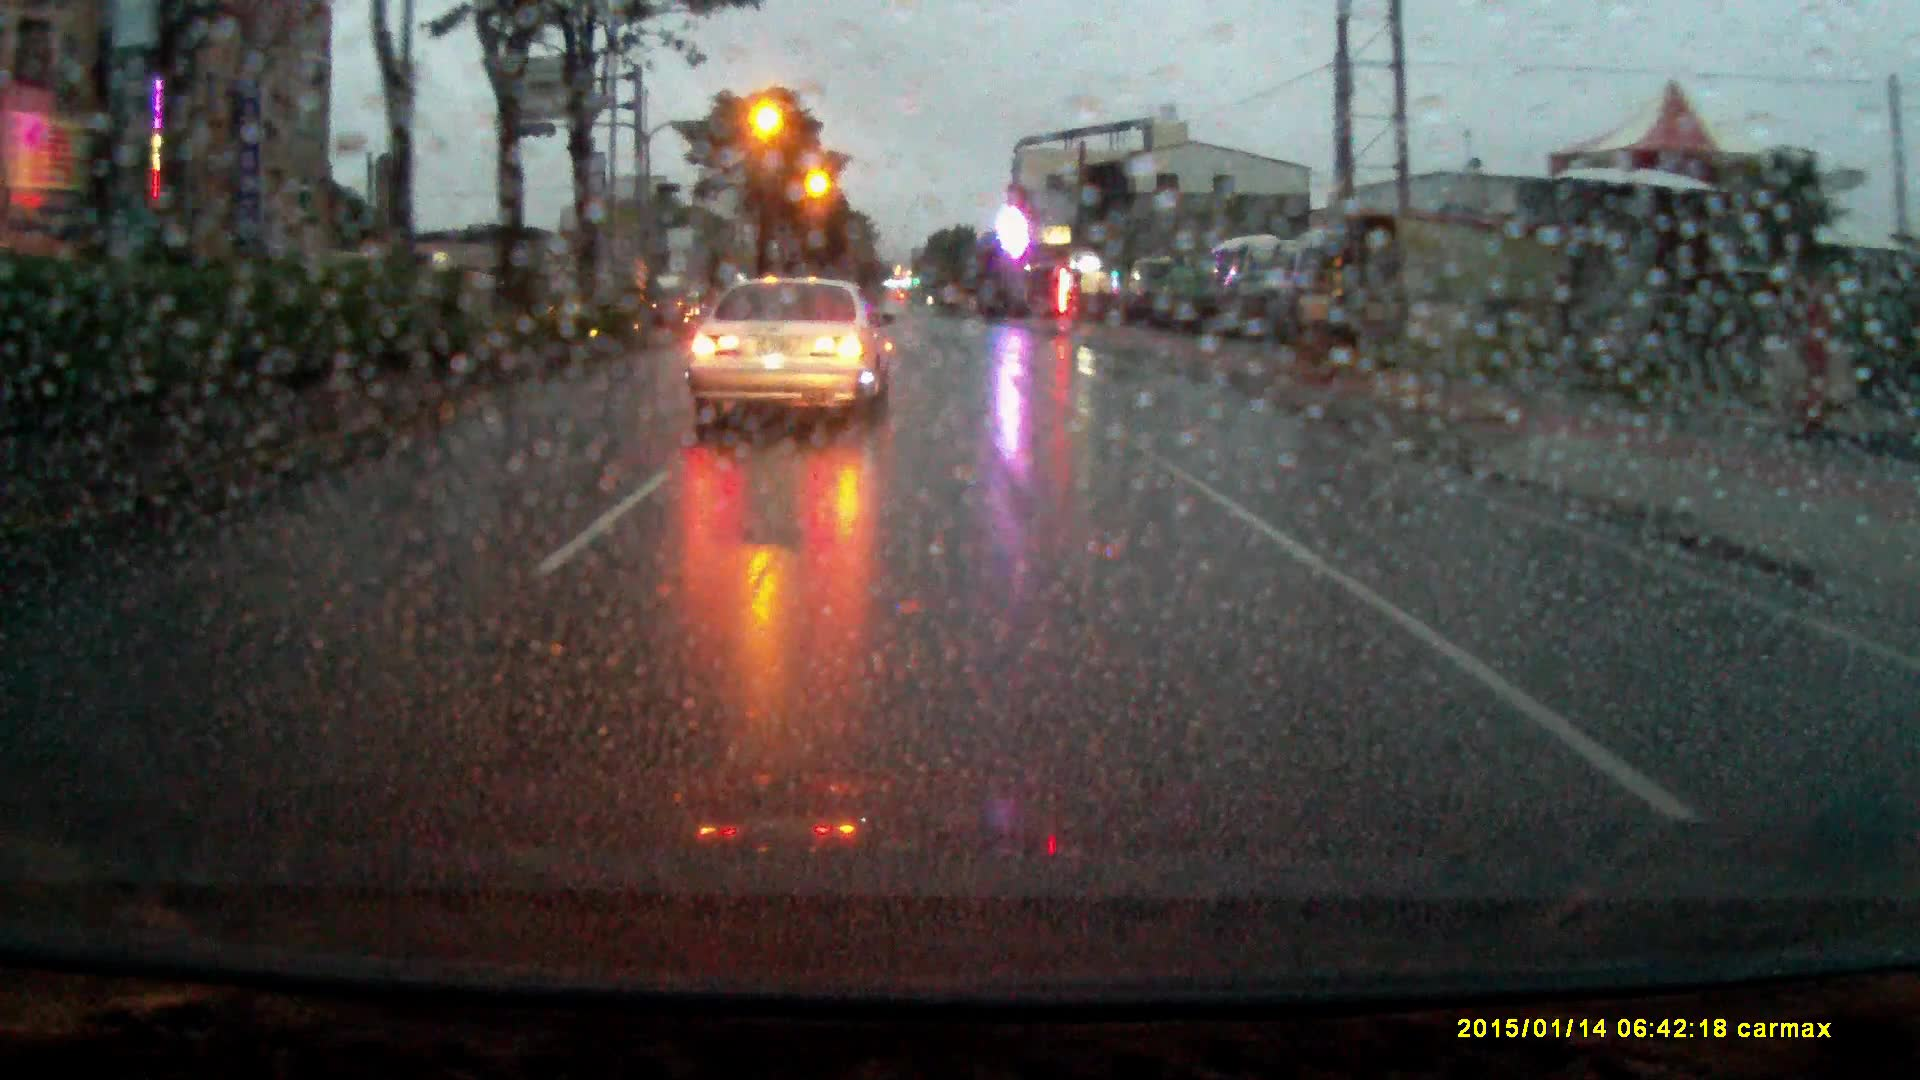vehicle: (686, 274, 899, 446), (1209, 239, 1302, 343), (1305, 232, 1381, 340), (1127, 258, 1182, 328), (1159, 269, 1215, 319), (655, 280, 704, 328)
